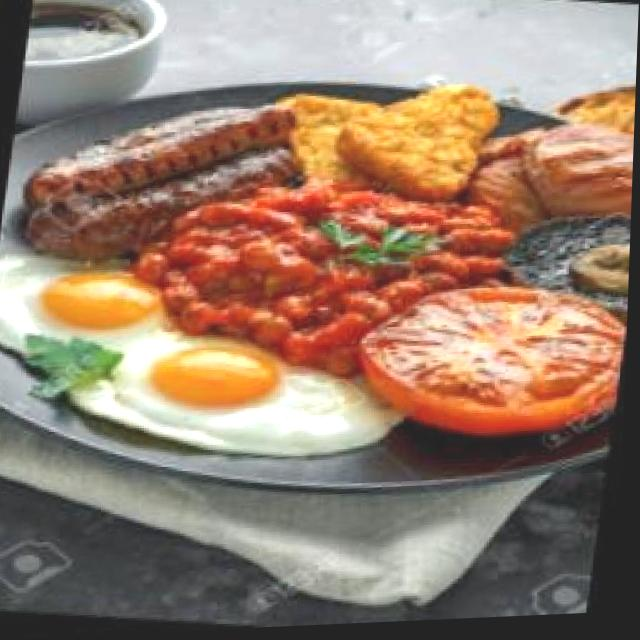fried_eggs: (0, 244, 390, 473)
triangle_hash_brown: (289, 78, 485, 198)
